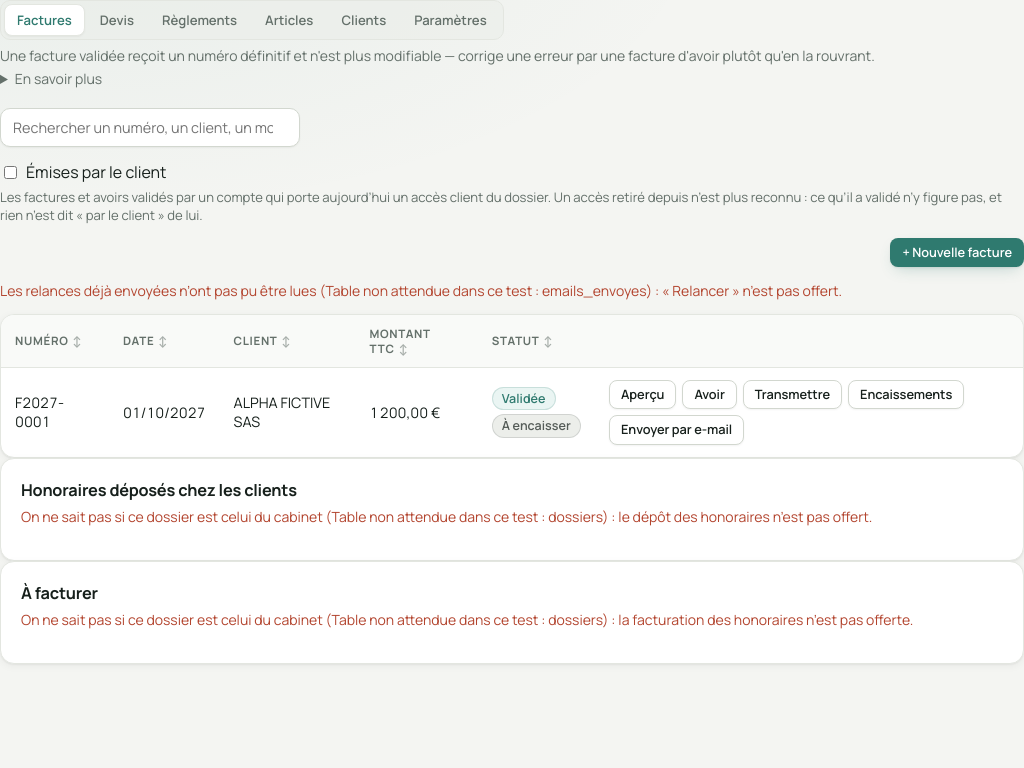
Test case: Paramètres dans l’onglet Factures — qui est le client › au cabinet : « par le client » sur les accès que l’onglet a lus
The width and height of the screenshot is (1024, 768).
Expected: the text "F2027-0001" is shown, x1=15 y1=393 x2=64 y2=431
Click the tab "Paramètres" at [450, 20], box x1=401 y1=4 x2=500 y2=36
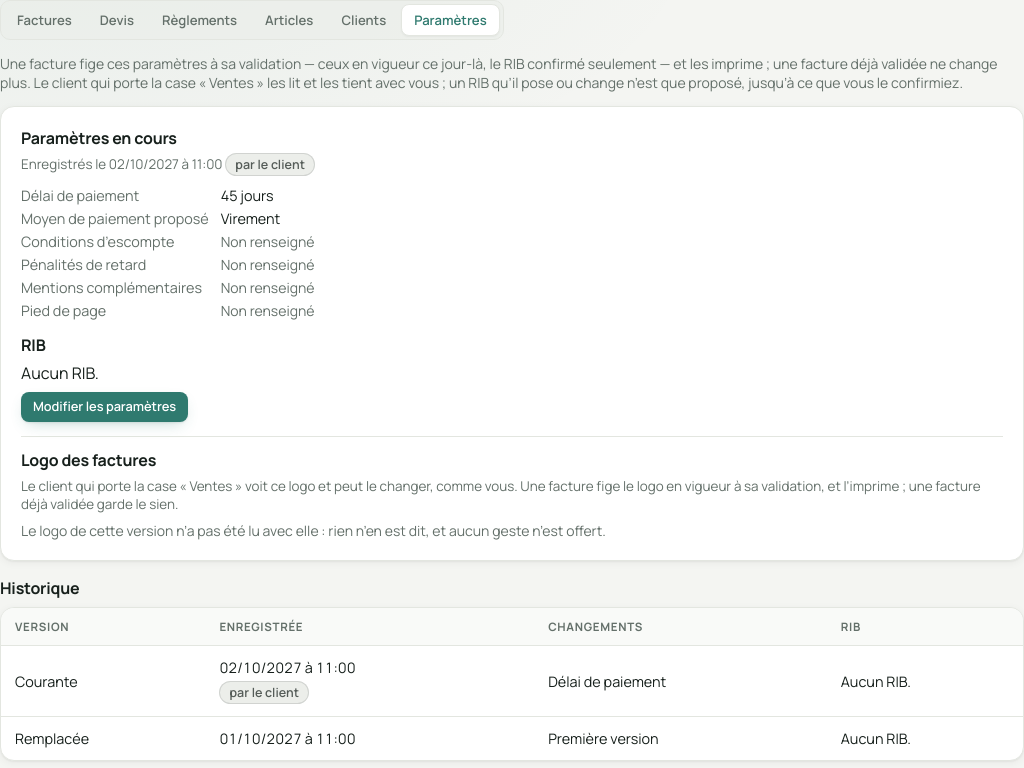
Now the text "par le client" in the row of "Enregistrés le" is shown, box x1=235 y1=156 x2=305 y2=173
